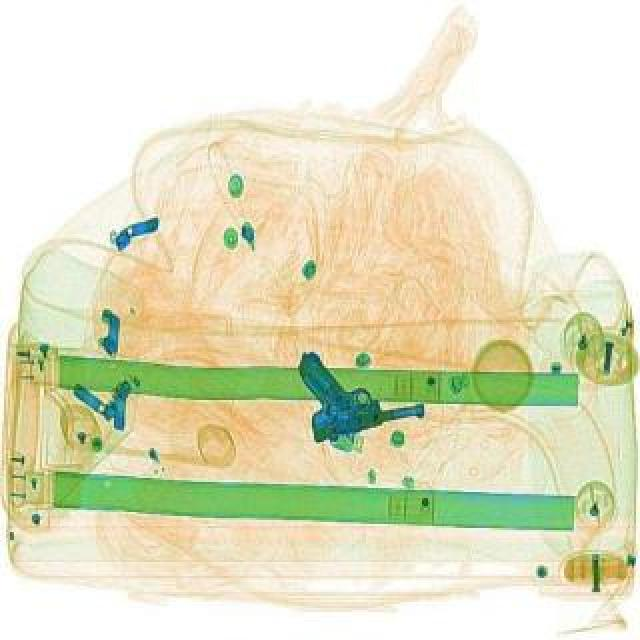gun: (286, 348, 430, 452)
